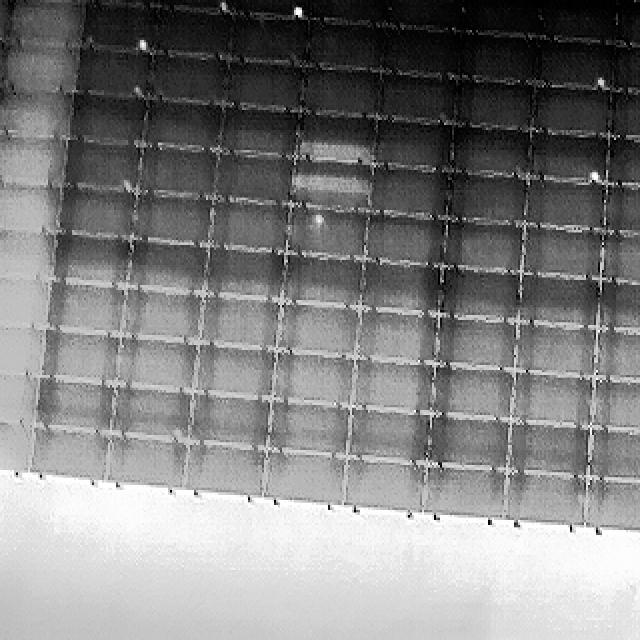Hotspots: (128, 78, 148, 102), (255, 284, 280, 301), (138, 37, 158, 57), (296, 144, 318, 160), (586, 172, 606, 189), (591, 75, 610, 91), (312, 211, 328, 230), (289, 1, 308, 16), (123, 180, 140, 196), (218, 2, 237, 14)
PV-modules: (268, 352, 354, 411), (268, 399, 354, 457), (429, 368, 515, 424), (424, 463, 510, 519), (185, 393, 269, 450), (264, 448, 345, 507), (33, 380, 116, 437), (426, 414, 511, 469), (512, 372, 595, 428), (28, 424, 114, 478), (507, 471, 591, 526), (442, 265, 523, 322), (119, 288, 201, 344), (114, 336, 196, 392), (344, 407, 426, 463), (278, 304, 362, 358), (185, 444, 266, 500), (110, 387, 192, 442), (304, 23, 392, 74), (524, 177, 605, 232), (507, 421, 591, 474), (515, 324, 597, 378), (106, 436, 188, 490), (435, 318, 517, 372), (44, 282, 126, 336), (342, 458, 424, 512), (292, 162, 372, 217), (199, 297, 280, 351), (361, 262, 442, 316), (130, 243, 210, 297), (37, 330, 117, 384), (348, 362, 431, 414), (445, 174, 526, 227), (519, 274, 598, 328), (193, 346, 275, 398), (202, 250, 284, 302), (365, 214, 450, 264), (140, 147, 220, 200), (56, 186, 136, 239), (442, 224, 522, 277), (283, 256, 364, 308), (521, 229, 602, 281), (358, 312, 439, 364), (145, 102, 226, 154), (449, 125, 530, 177), (70, 94, 148, 148), (288, 205, 367, 258), (232, 13, 308, 68), (48, 236, 128, 288), (456, 75, 536, 127), (0, 328, 42, 426), (134, 195, 213, 247), (462, 32, 538, 86), (219, 108, 301, 158), (369, 169, 449, 220), (156, 8, 236, 59), (150, 54, 230, 105), (300, 67, 381, 117), (528, 131, 607, 182), (60, 142, 142, 190), (217, 156, 295, 206), (211, 201, 289, 251), (372, 117, 450, 167), (530, 88, 609, 137), (227, 60, 304, 110), (73, 46, 149, 96), (380, 73, 460, 120), (84, 1, 159, 51), (536, 40, 614, 88), (301, 114, 378, 162), (388, 28, 460, 78), (8, 0, 82, 48), (6, 46, 78, 94), (534, 0, 618, 40), (586, 472, 640, 532), (4, 95, 72, 142), (3, 136, 66, 186), (588, 422, 640, 478), (590, 380, 640, 435), (0, 229, 50, 284), (0, 187, 57, 235), (460, 0, 540, 32), (594, 330, 640, 385), (0, 275, 47, 327), (0, 325, 43, 379), (306, 0, 394, 25), (598, 280, 640, 332), (0, 373, 38, 428), (392, 0, 466, 28), (600, 235, 640, 285), (602, 185, 640, 235), (602, 137, 640, 185), (606, 92, 640, 142), (0, 420, 31, 473), (612, 45, 640, 95), (234, 0, 308, 18), (618, 0, 640, 48), (160, 0, 240, 10), (88, 0, 164, 5), (12, 0, 88, 5), (618, 0, 640, 5), (0, 0, 16, 2)
